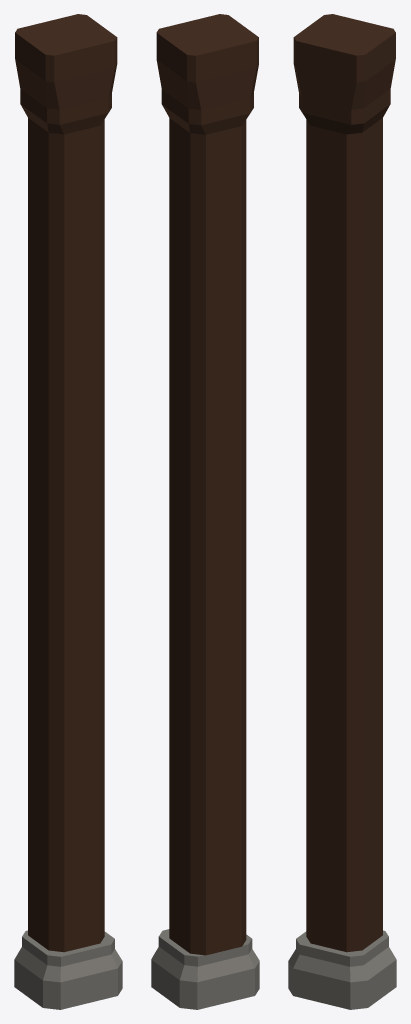
Rendered from rw_post.glb.
The picture shows the model from 3 angles, left to right: view 1: azimuth 30°, elevation 25°; view 2: azimuth 210°, elevation 25°; view 3: azimuth 330°, elevation 25°; orthographic projection.
Visible parts, largest first — view 1: rw_post__wl_post, rw_post__wl_base; view 2: rw_post__wl_post, rw_post__wl_base; view 3: rw_post__wl_post, rw_post__wl_base.
Part boxes in pixels (box(x1,y1,x2,y2)): rw_post__wl_post: box(15, 14, 117, 952); rw_post__wl_base: box(14, 930, 122, 1009); rw_post__wl_post: box(156, 14, 258, 955); rw_post__wl_base: box(151, 929, 259, 1009); rw_post__wl_post: box(293, 14, 395, 952); rw_post__wl_base: box(288, 930, 396, 1009).
Size of the model in its own units: 5 by 57 by 4.5.
